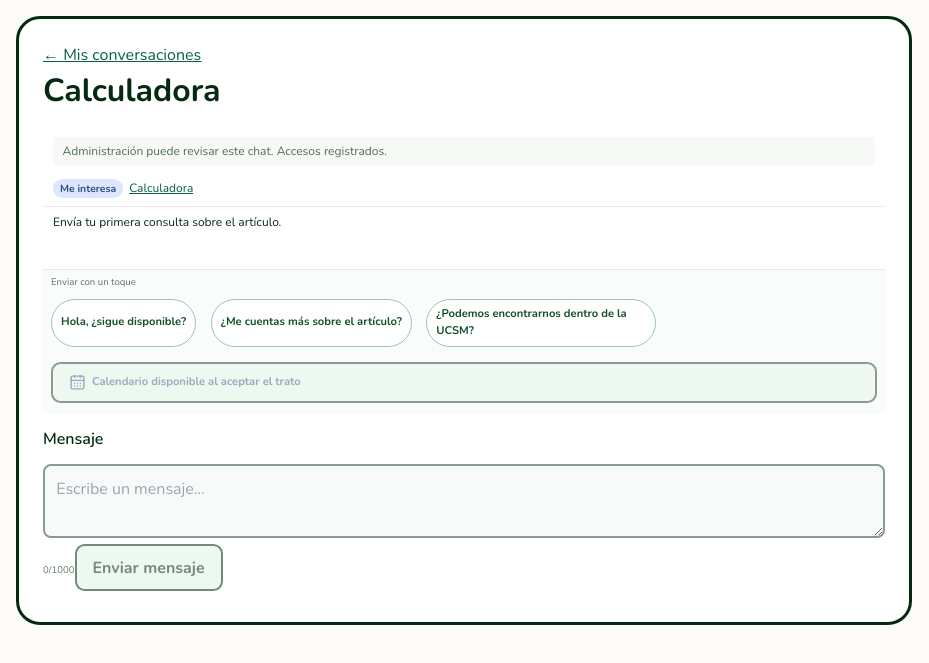
Test: sends a quick bubble with one click without deleting a custom draft
This screenshot has width=929, height=663.
Expected: the heading "Calculadora" is shown, [43,69,221,112]
Type "Borrador personal" into the text box labelled "Mensaje" at (464, 501), box [43,464,885,538]
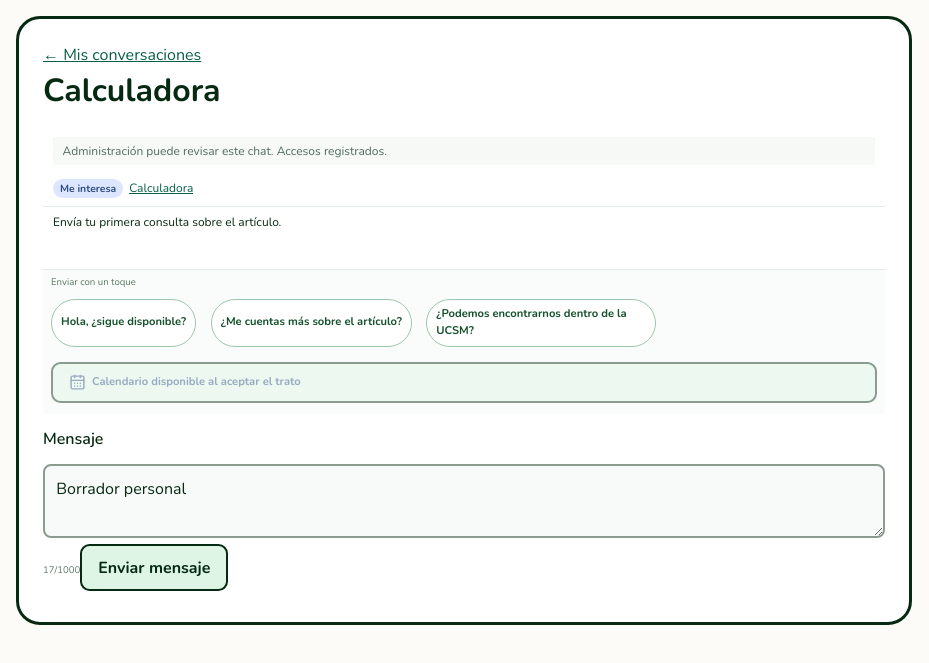
Click the button "Hola, ¿sigue disponible?" at (124, 323), box [51,299,196,347]
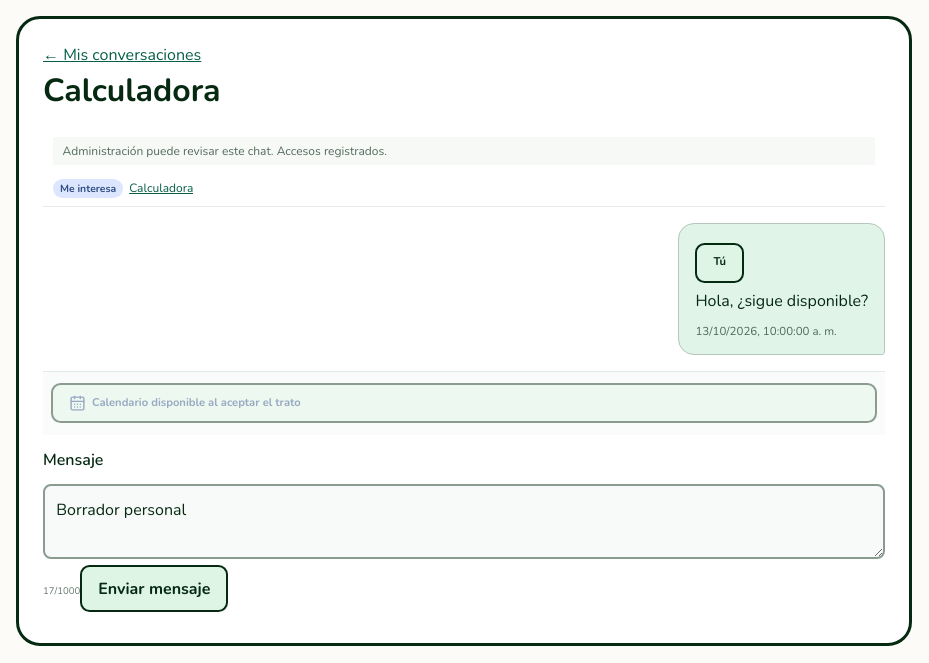
Expected: the button "Calendario disponible al aceptar el trato" is disabled, [51,383,877,423]
Result: the text "Hola, ¿sigue disponible?" is shown at [695,289,868,313]
